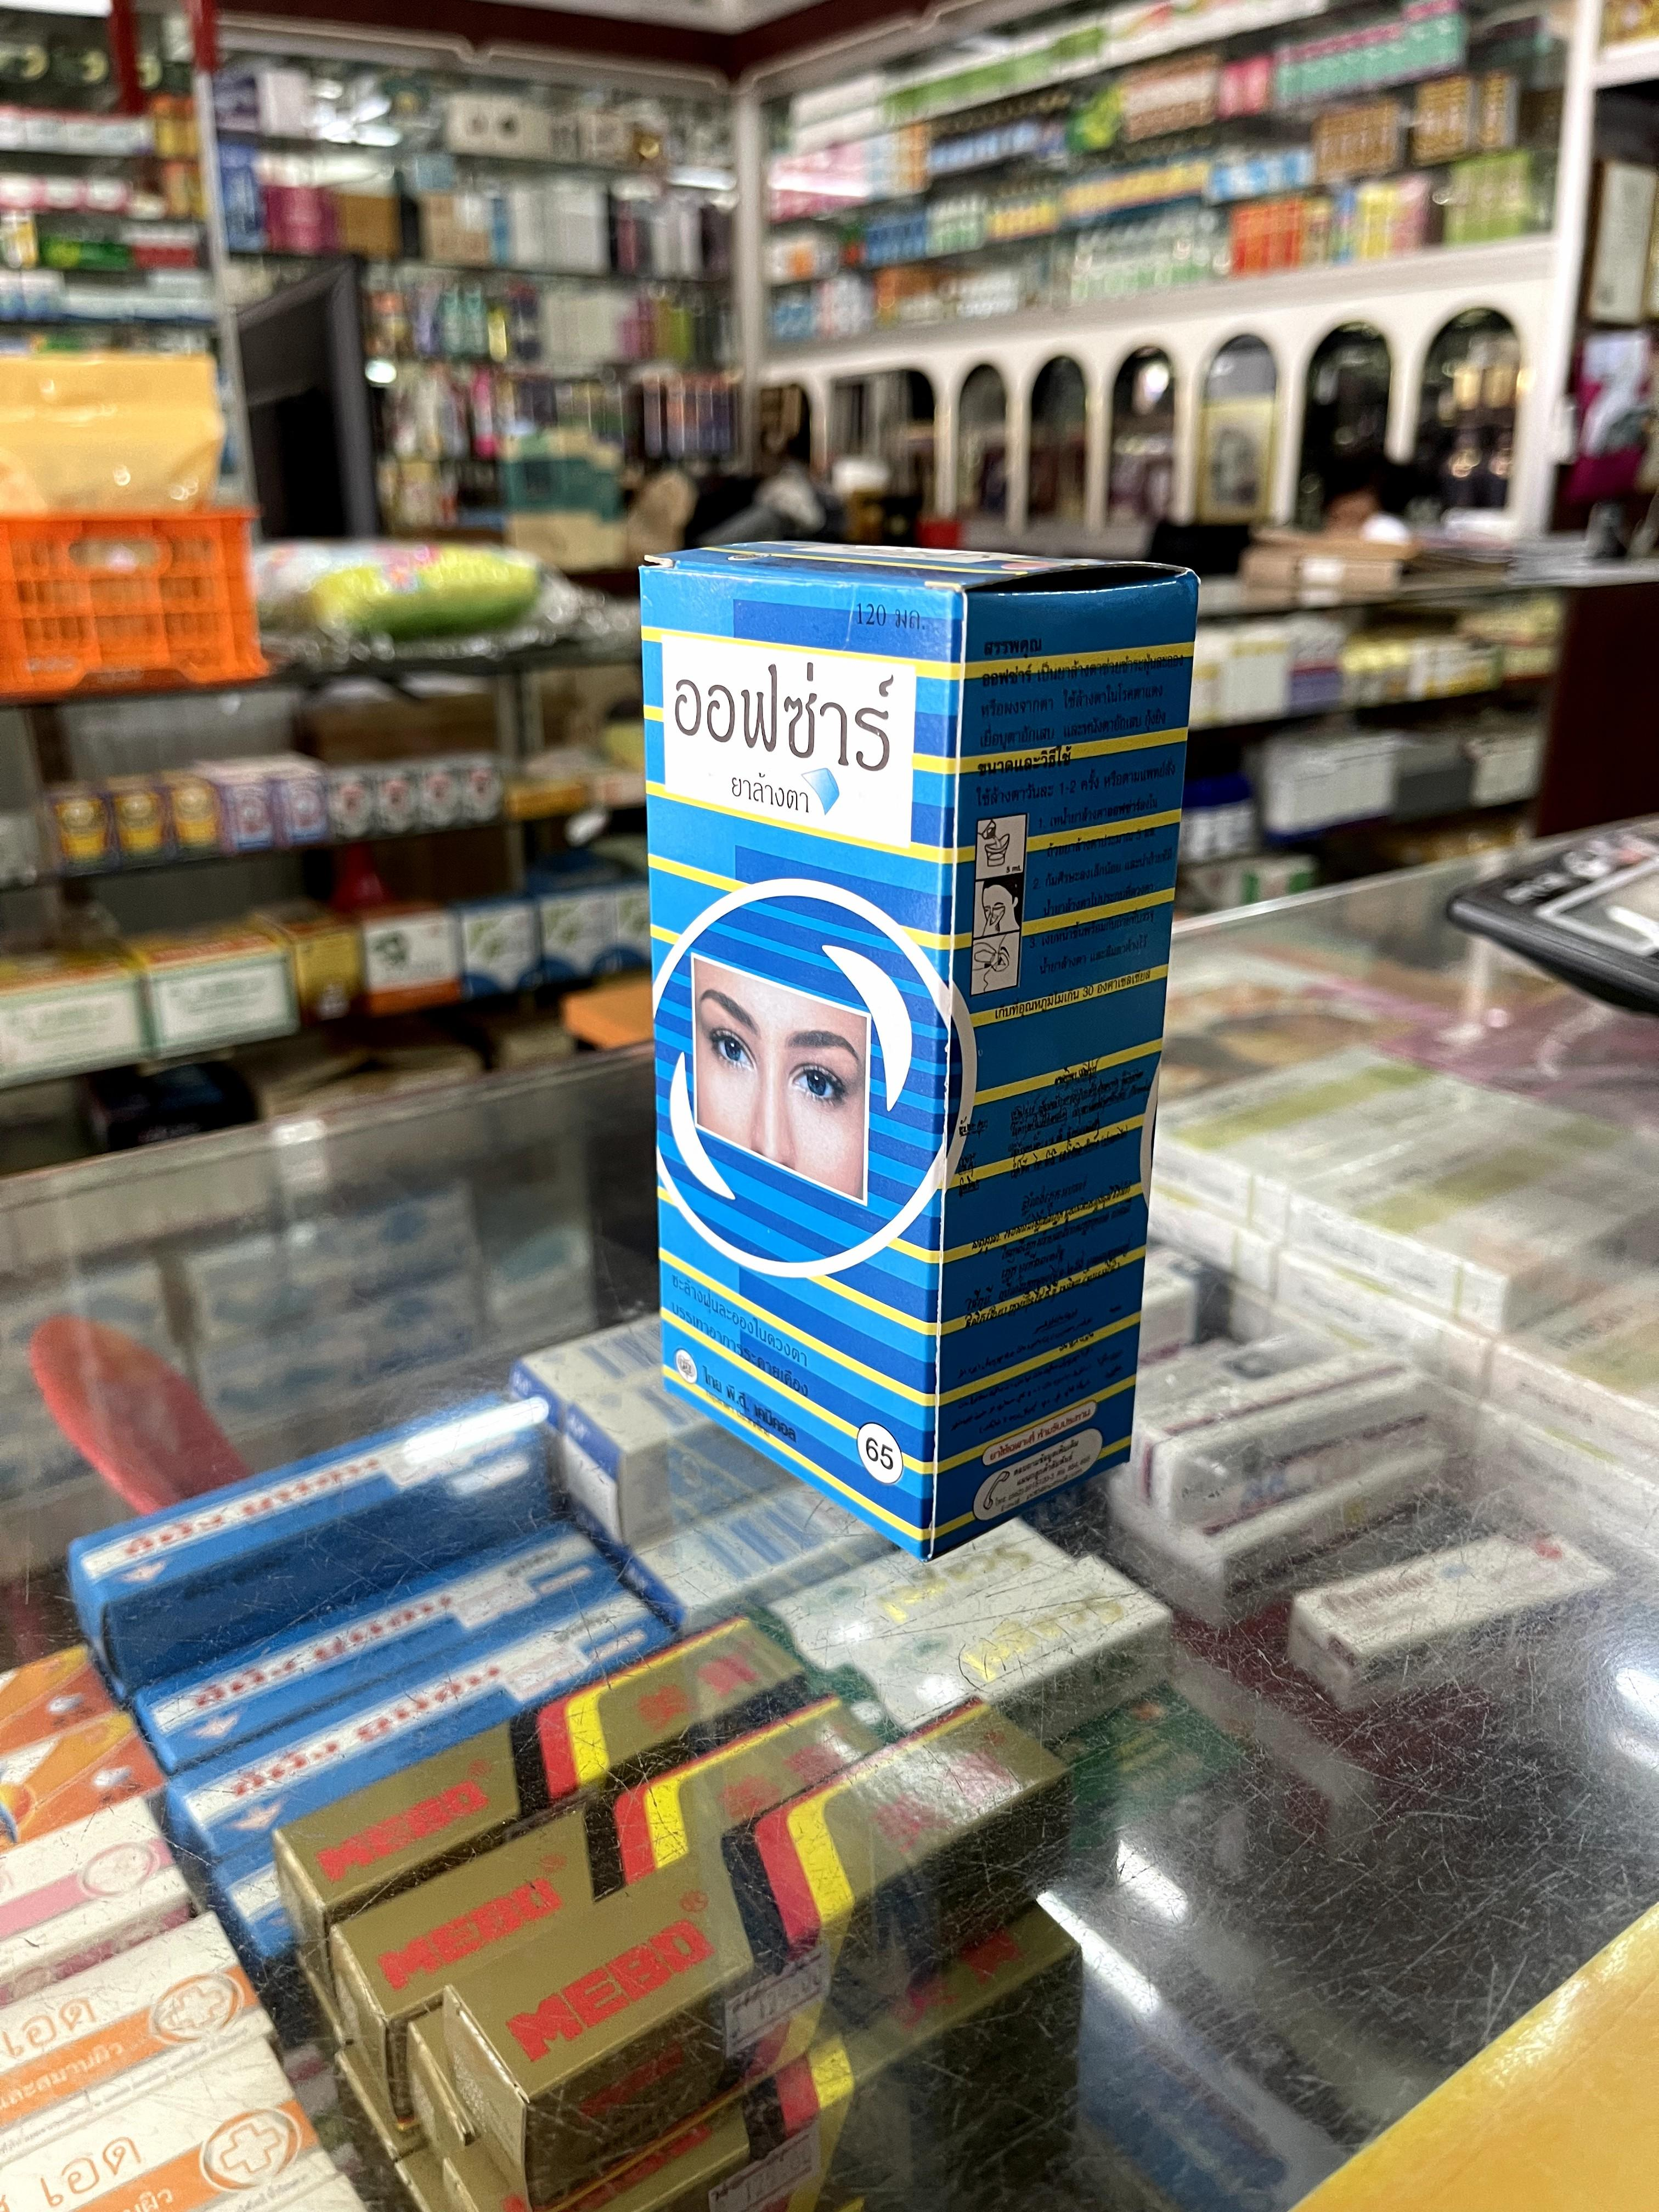Opsar: (640, 538, 1208, 1559)
